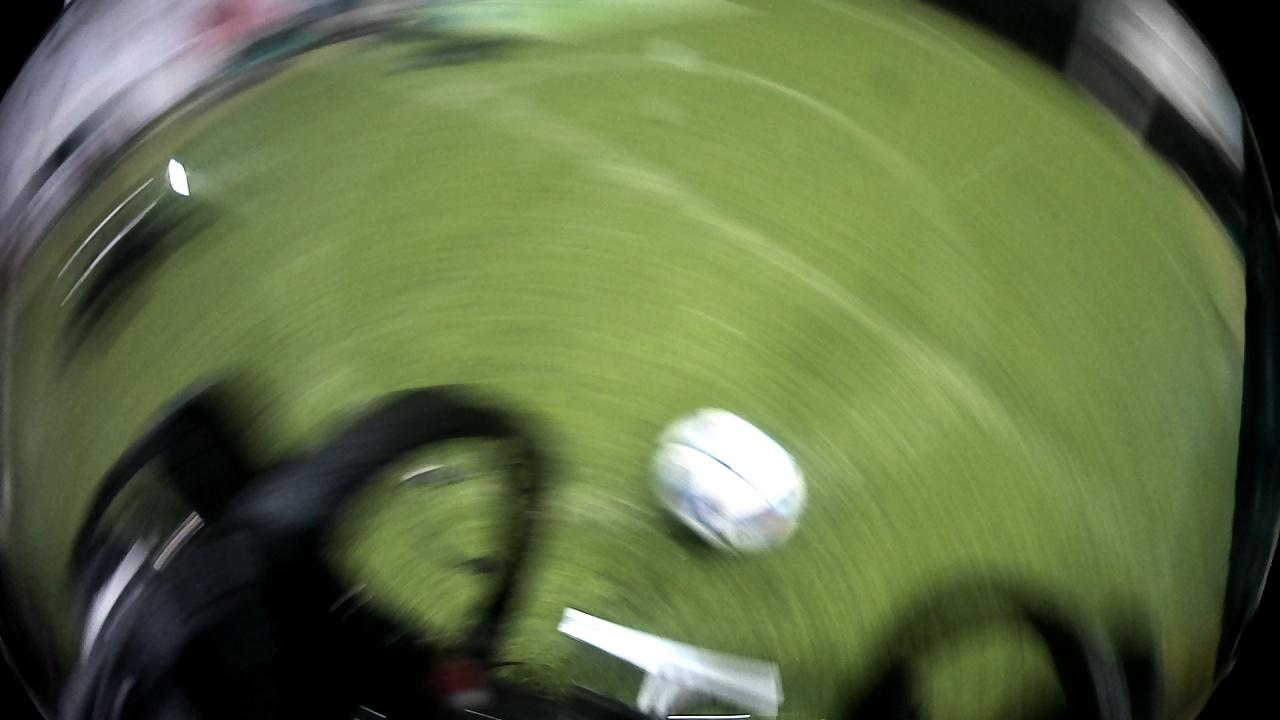ball: (634, 398, 816, 570)
